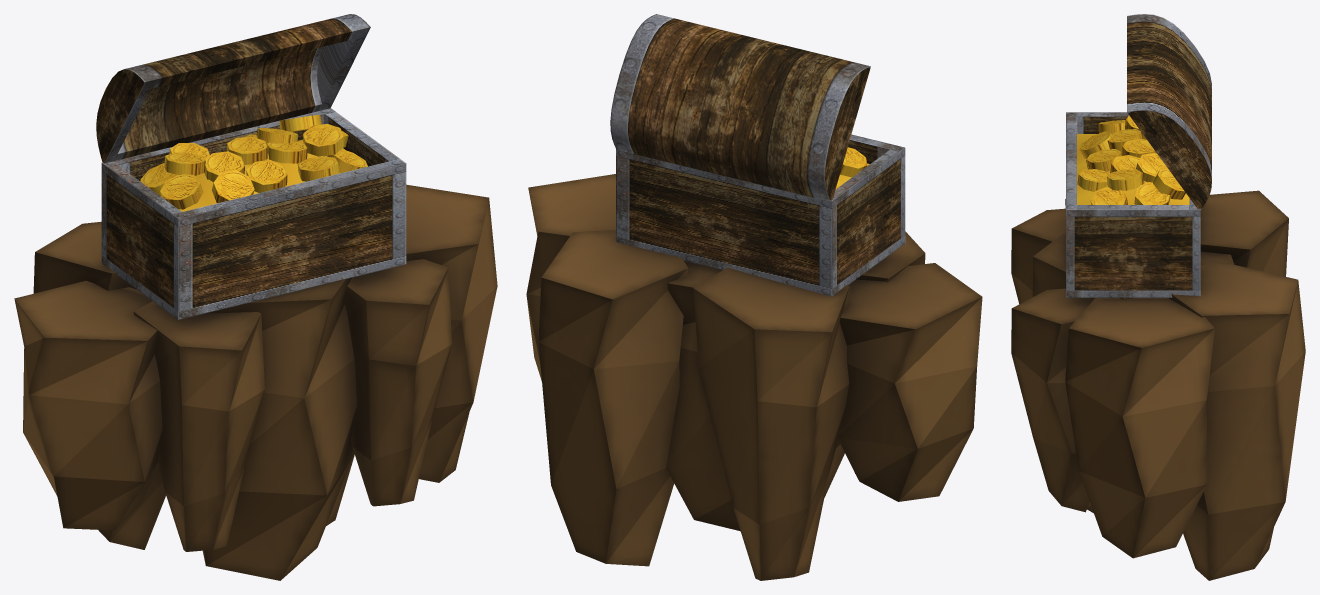
File: treasure.obj
3 renders of one model, left to right at view 1: azimuth 30°, elevation 25°; view 2: azimuth 150°, elevation 25°; view 3: azimuth 270°, elevation 25°, orthographic. The views are drawn at different scales.
Visible parts, largest first — view 1: Cylinder01, Box03, Line04, Cylinder13, Cylinder21, Cylinder10, Cylinder14, Box04, Cylinder06, Cylinder15, Cylinder18, Cylinder11 (+1 smaller); view 2: Cylinder01, Line04, Box03; view 3: Cylinder01, Box03, Line04, Box04, Cylinder21, Cylinder20, Cylinder19, Cylinder18, Cylinder17, Cylinder10, Cylinder16, Cylinder14 (+3 smaller).
Boxes of the visible parts, <box> form: Cylinder01: <box>14,184,497,580</box>; Box03: <box>101,108,406,319</box>; Line04: <box>96,14,370,163</box>; Cylinder13: <box>160,174,203,209</box>; Cylinder21: <box>303,123,343,156</box>; Cylinder10: <box>246,160,287,192</box>; Cylinder14: <box>212,170,254,202</box>; Box04: <box>140,139,345,211</box>; Cylinder06: <box>227,137,267,164</box>; Cylinder15: <box>164,152,205,175</box>; Cylinder18: <box>297,156,339,181</box>; Cylinder11: <box>204,151,244,182</box>; Cylinder01: <box>526,174,982,580</box>; Line04: <box>610,14,870,201</box>; Box03: <box>616,134,905,296</box>; Cylinder01: <box>1011,190,1305,580</box>; Box03: <box>1066,112,1200,297</box>; Line04: <box>1127,14,1211,209</box>; Box04: <box>1077,134,1189,204</box>; Cylinder21: <box>1107,169,1144,190</box>; Cylinder20: <box>1153,169,1185,199</box>; Cylinder19: <box>1134,182,1169,204</box>; Cylinder18: <box>1077,169,1110,191</box>; Cylinder17: <box>1136,152,1168,182</box>; Cylinder10: <box>1086,149,1121,171</box>; Cylinder16: <box>1090,186,1127,204</box>; Cylinder14: <box>1079,131,1112,158</box>.
Size of the model in its own units: 49.27 by 54.25 by 30.79.
